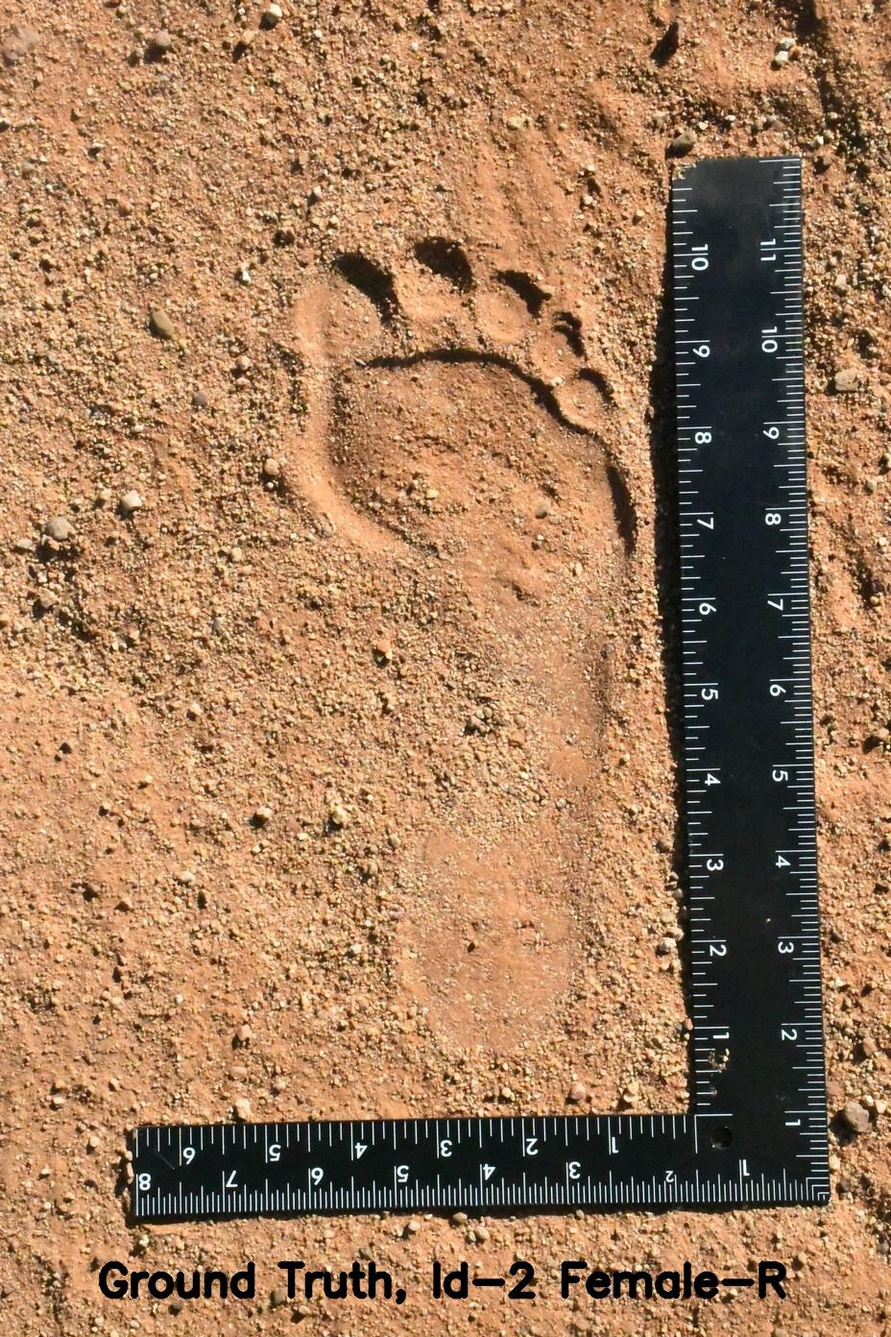human_footprint: (257, 203, 666, 1098)
